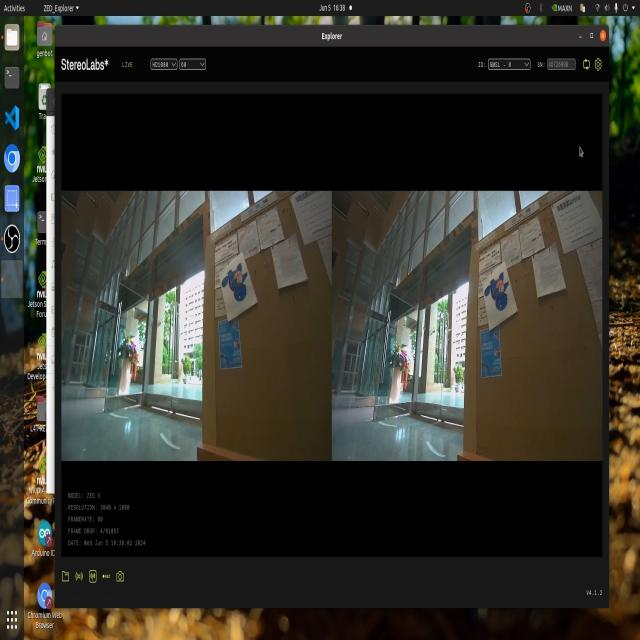blue: (219, 254, 260, 305), (486, 269, 516, 321)
